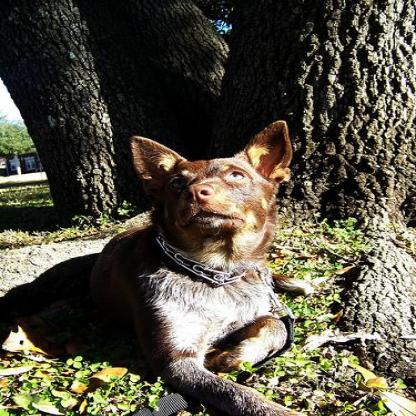kelpie: (0, 118, 304, 414)
